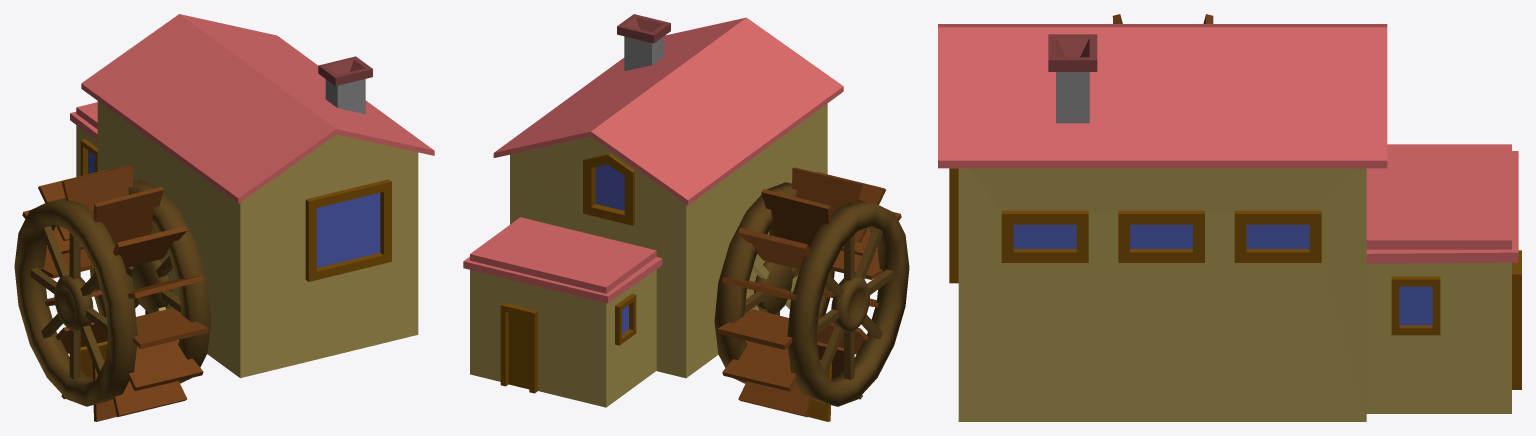
The model's file is Mill.fbx.
3 views of the same model, side by side, from view 1: azimuth 30°, elevation 25°; view 2: azimuth 150°, elevation 25°; view 3: azimuth 270°, elevation 25° (orthographic). The views are drawn at different scales.
Visible parts, largest first — view 1: Mill; view 2: Mill; view 3: Mill.
Part boxes in pixels (bbox=[...]): Mill: bbox=[14, 14, 434, 421]; Mill: bbox=[463, 14, 909, 421]; Mill: bbox=[938, 14, 1521, 421].
Size of the model in its own units: 29.22 by 29.85 by 35.79.
